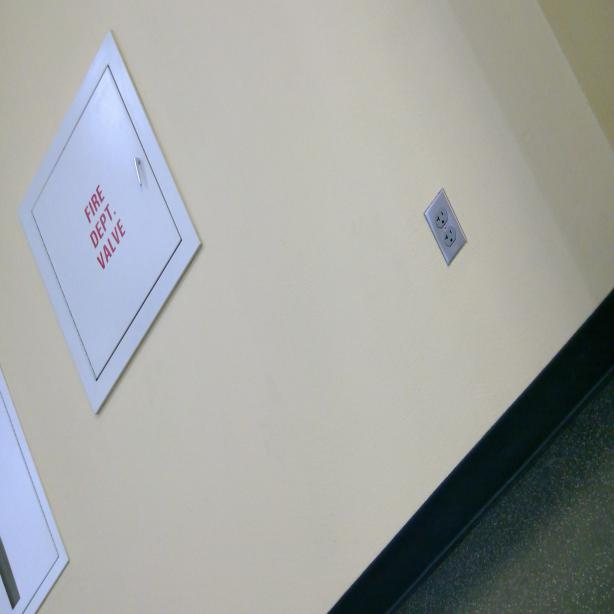typeb: (434, 206, 447, 226), (444, 226, 456, 246)
